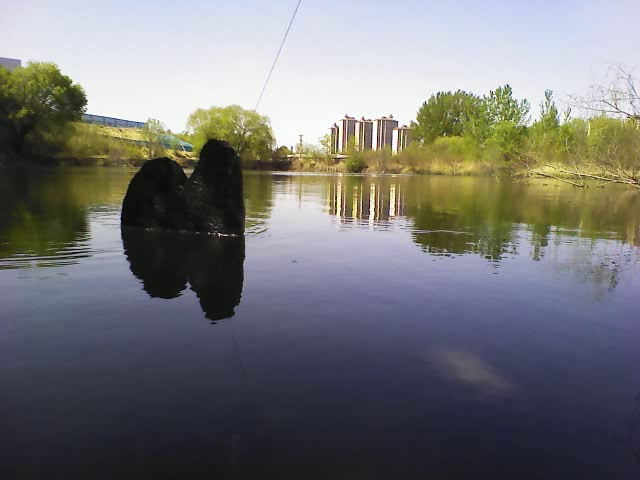rock: (116, 134, 248, 239)
